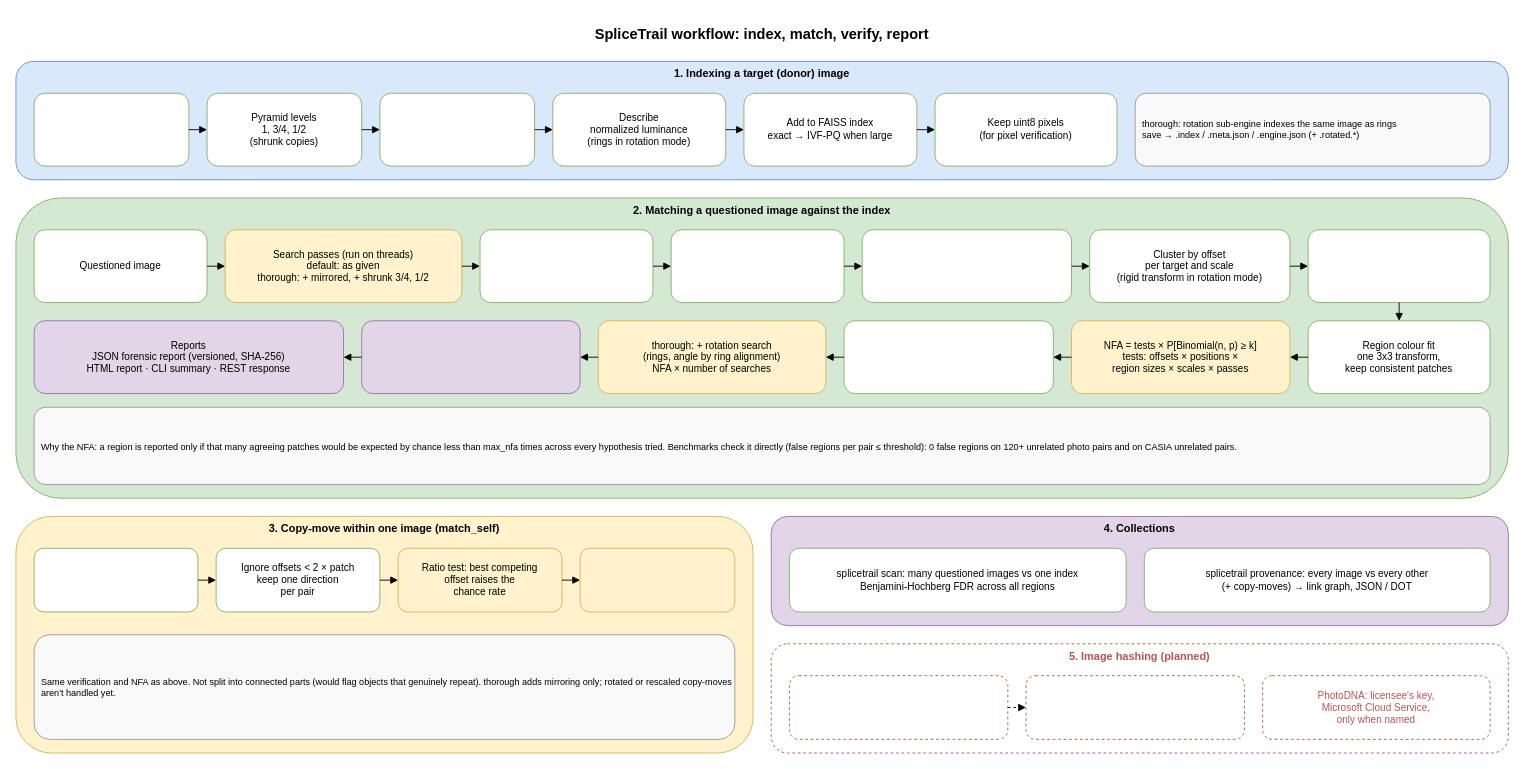
This 1524x769 diagram has some shape labels left out. The centre of each missing label's shape, as x and y in pixels:
Compare with hash list same algorithm only, PDQ ≤ 31 bits, quality ≥ 50: the point at 1134,707
Drop symmetric objects (mirror halves, turning about own centre): the point at 657,579
Extract + describe source patches: the point at 566,266
Extract 5x5 patches drop flat ones: the point at 457,129
Image file (+ JPEG noise from its tables): the point at 111,129
Index the image against itself: the point at 115,579
k nearest neighbours (FAISS, k = 8): the point at 757,266
Merge passes map coords back, NFA × passes, drop duplicate regions: the point at 948,357
PDQ · pHash · libpHash (+ 8 rotations/flips with thorough): the point at 898,707
Per-patch pre-filter grey gain/offset fit, chi-square (clipped pixels ignored): the point at 966,266
Significant regions (NFA < max_nfa) colour transform, localization, heatmap: the point at 470,357
Split into connected parts (cross-image search): the point at 1398,266
